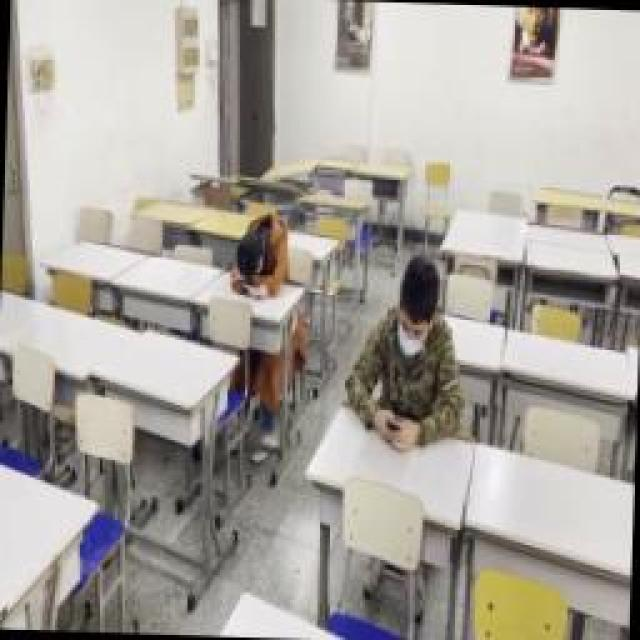phone: (342, 260, 462, 448)
sleep: (225, 210, 293, 295)
